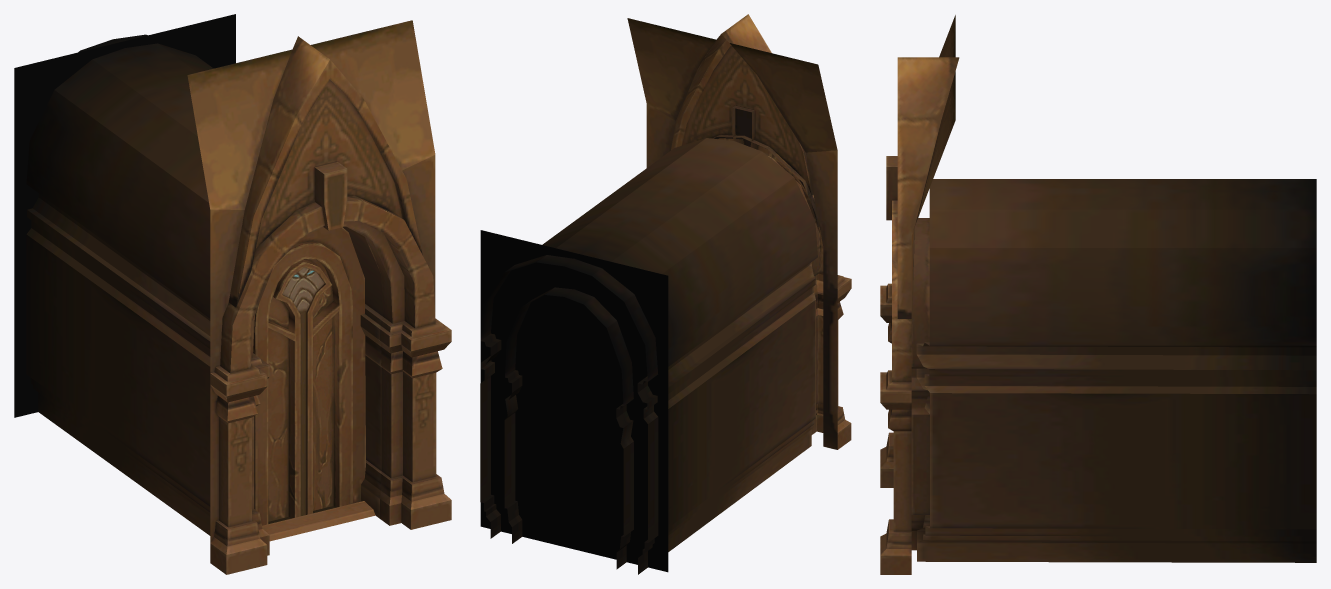
The model's file is shakian_gimmick_door_p2_setting_001.FBX.
The picture shows the model from 3 angles, left to right: view 1: azimuth 30°, elevation 25°; view 2: azimuth 150°, elevation 25°; view 3: azimuth 270°, elevation 25°; orthographic projection. The views are drawn at different scales.
Visible parts, largest first — view 1: shakian_gimmick_door_p2_01, shakian_gimmick_door_p2_02; view 2: shakian_gimmick_door_p2_01; view 3: shakian_gimmick_door_p2_01.
Boxes of the visible parts, <box> form: shakian_gimmick_door_p2_01: <box>14,14,451,574</box>; shakian_gimmick_door_p2_02: <box>253,227,365,525</box>; shakian_gimmick_door_p2_01: <box>480,14,851,574</box>; shakian_gimmick_door_p2_01: <box>880,15,1316,574</box>.
Size of the model in its own units: 4 by 8.27 by 6.96.
